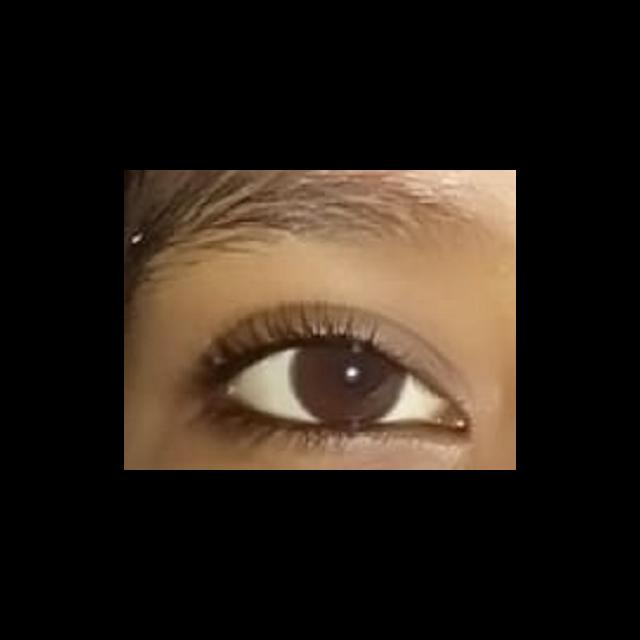eye: (233, 342, 442, 428)
iris: (290, 345, 408, 426)
